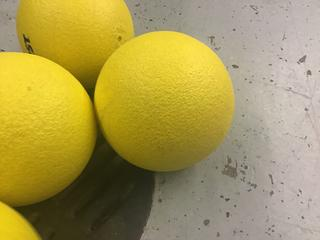power_cell: (93, 29, 232, 180), (13, 2, 140, 82)
